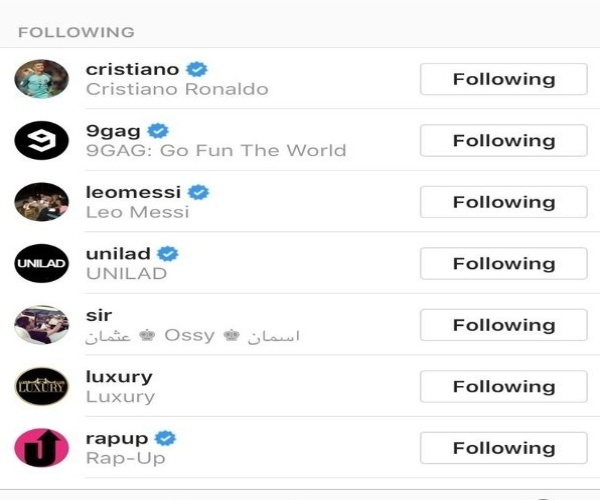following: (413, 241, 599, 291), (414, 177, 595, 228), (416, 421, 593, 472), (416, 118, 598, 165), (415, 361, 593, 409), (416, 54, 595, 101), (416, 303, 596, 349)
